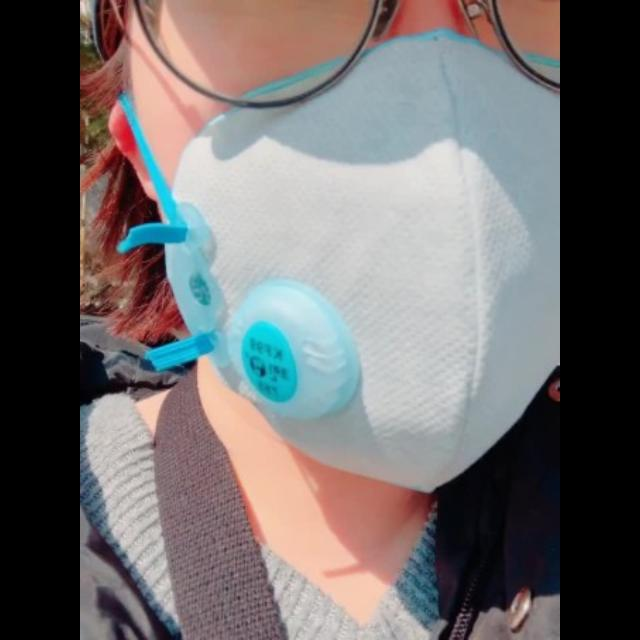masks: (102, 27, 560, 510)
